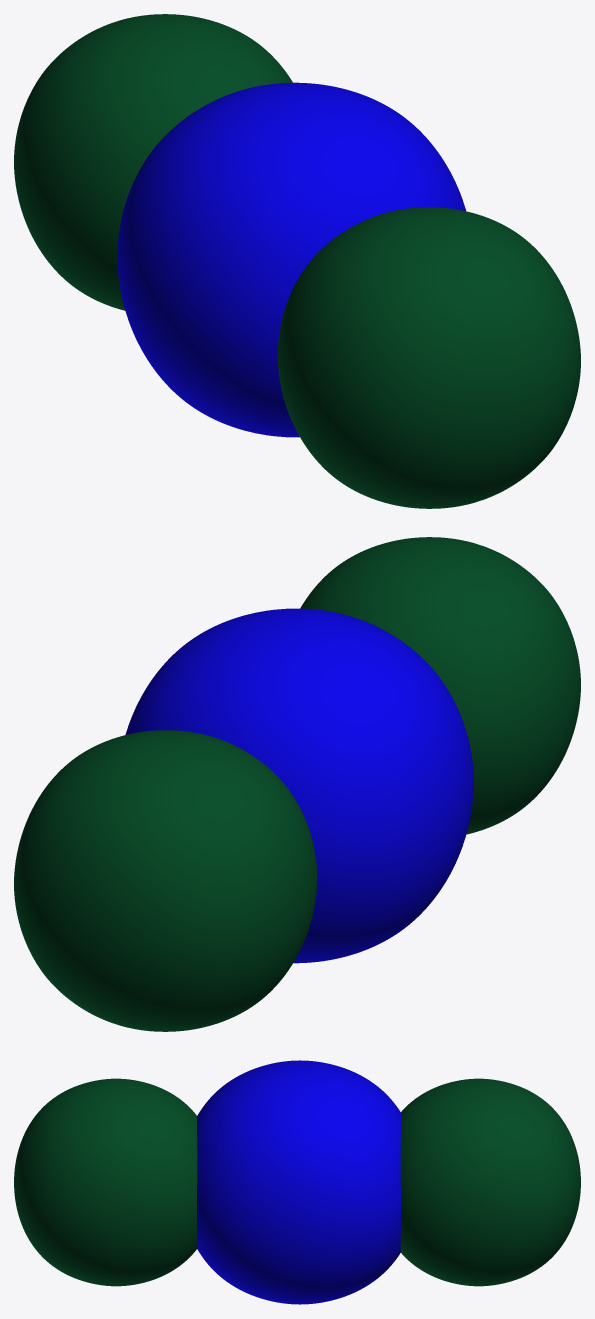
Rendered from H2O_molecule.gltf.
3 renders of one model, top to bottom at view 1: azimuth 30°, elevation 25°; view 2: azimuth 150°, elevation 25°; view 3: azimuth 270°, elevation 25°, orthographic. The views are drawn at different scales.
Visible parts, largest first — view 1: Cube.001, Cube, Cube.002; view 2: Cube.002, Cube, Cube.001; view 3: Cube, Cube.001, Cube.002.
Boxes of the visible parts, <box> form: Cube.001: <box>277,207,580,508</box>; Cube: <box>117,82,465,437</box>; Cube.002: <box>14,14,292,310</box>; Cube.002: <box>14,730,317,1031</box>; Cube: <box>125,608,473,963</box>; Cube.001: <box>300,537,580,834</box>; Cube: <box>197,1060,400,1304</box>; Cube.001: <box>14,1078,197,1286</box>; Cube.002: <box>400,1078,580,1286</box>.
Bounding box in the file's own units: 1.68 × 1.68 × 3.96.
